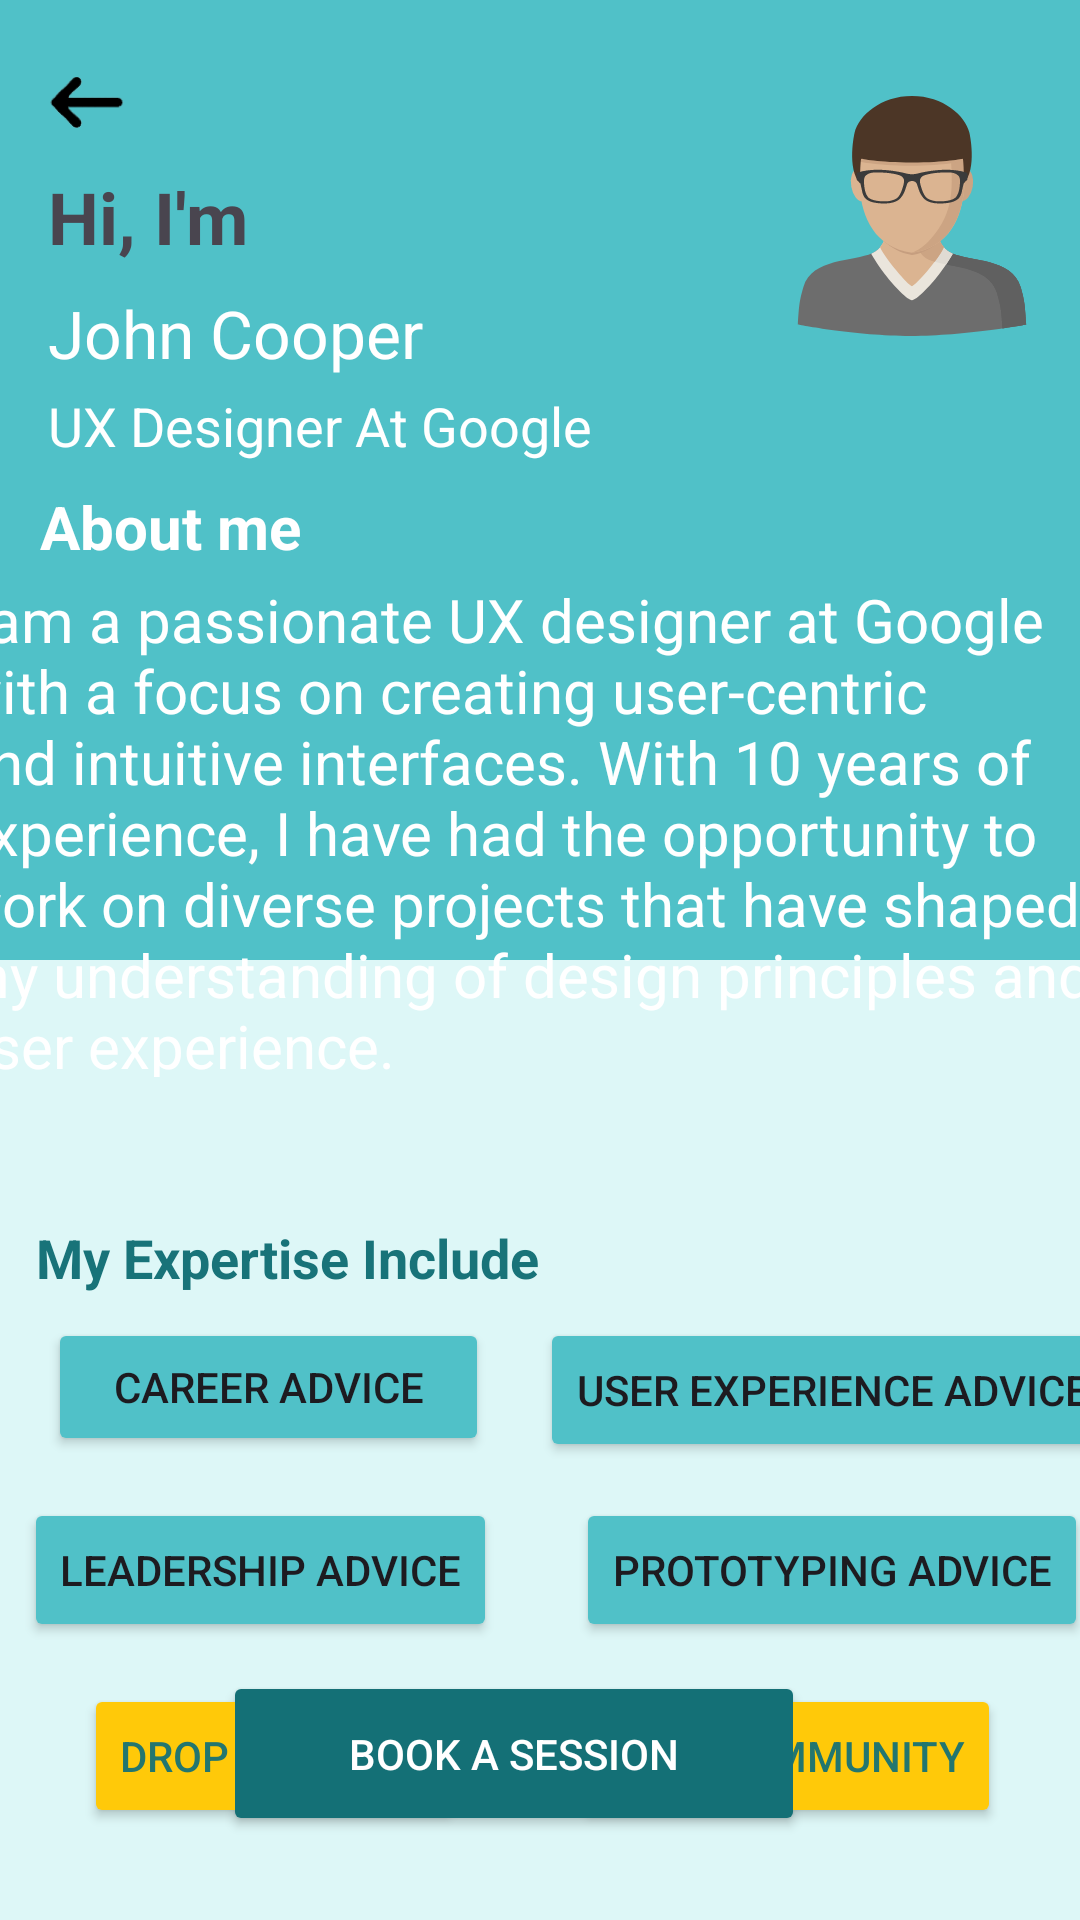

Locate icon controls on the screen. Image size 1080 × 1920, boxes as (x1, y1, x2, y2).
arrow: (50, 77, 123, 128)
